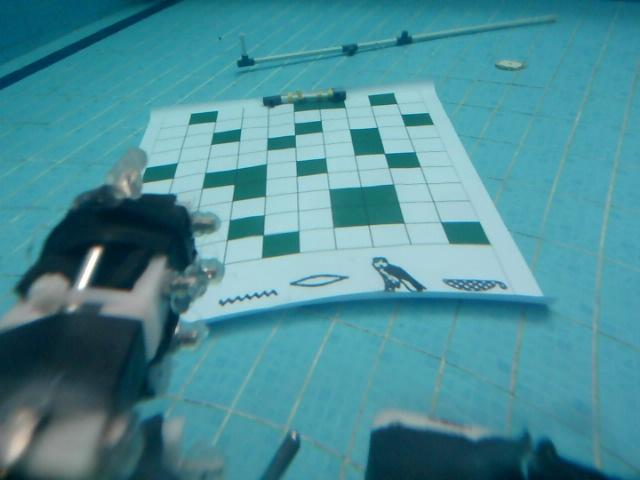Basket: (443, 271, 508, 294)
Mouth: (289, 274, 351, 292)
Owl: (368, 256, 427, 296)
Water: (217, 290, 281, 308)
